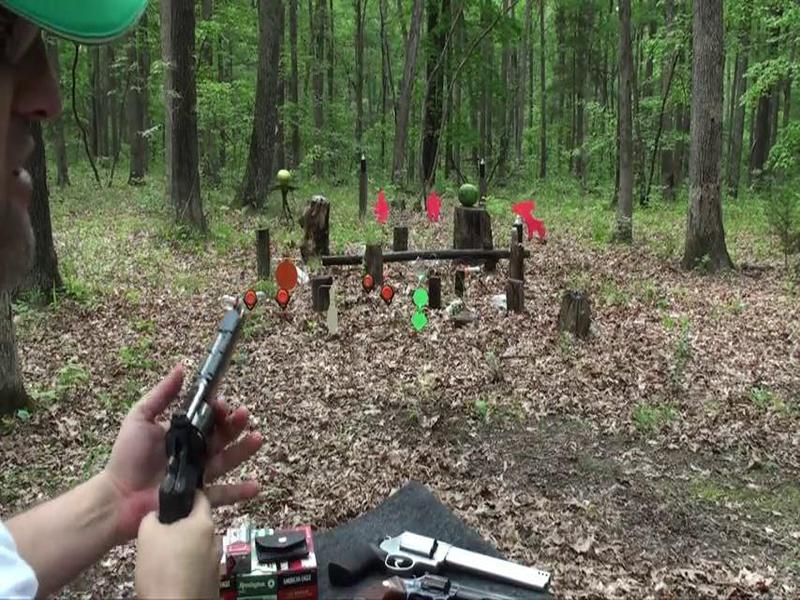Revolver: (129, 297, 271, 542)
